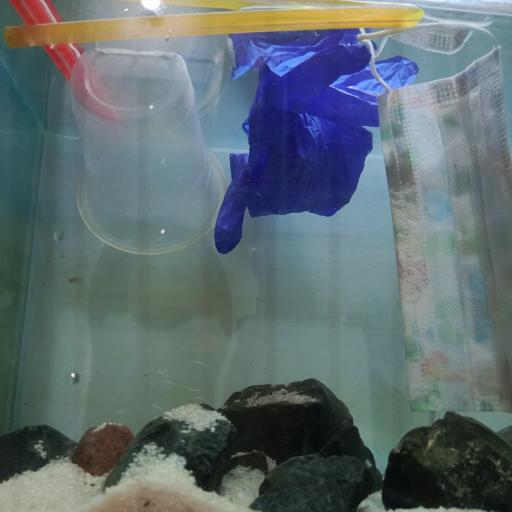glove: (215, 27, 422, 254)
mask: (354, 21, 512, 413)
plastic_cup: (69, 45, 225, 253)
plastic_straw: (3, 8, 428, 52), (10, 0, 105, 107)
